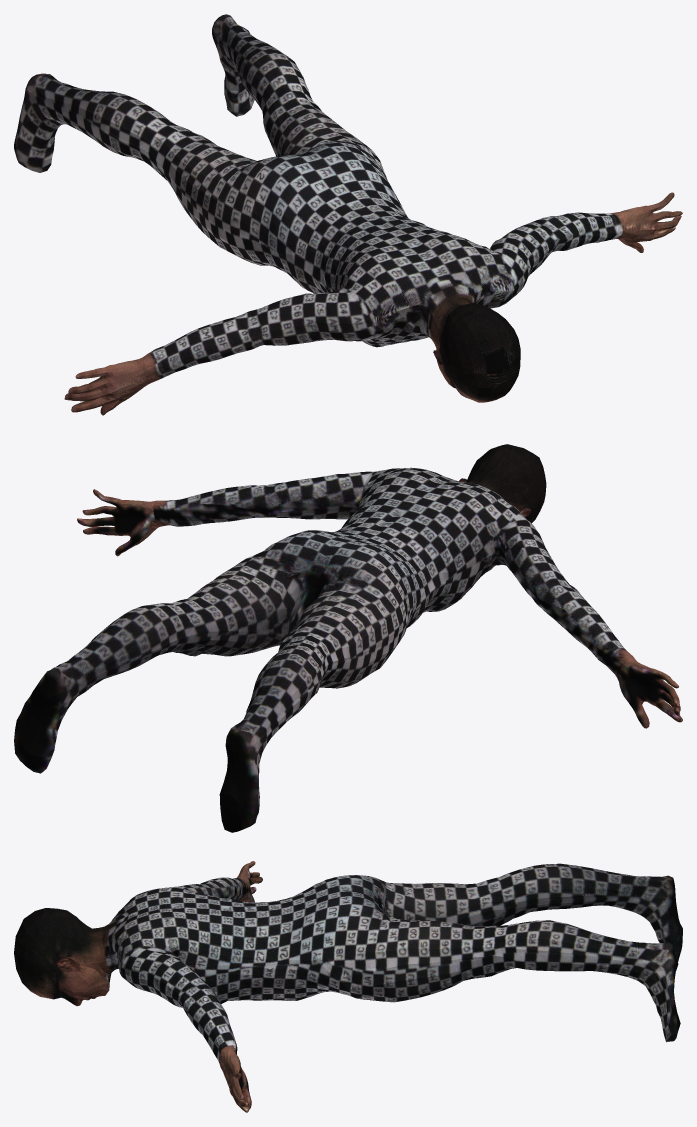
Rendered from Katey.obj.
3 renders of one model, top to bottom at view 1: azimuth 30°, elevation 25°; view 2: azimuth 150°, elevation 25°; view 3: azimuth 270°, elevation 25°, orthographic. The views are drawn at different scales.
Size of the model in its own units: 1523 by 383 by 1651.
